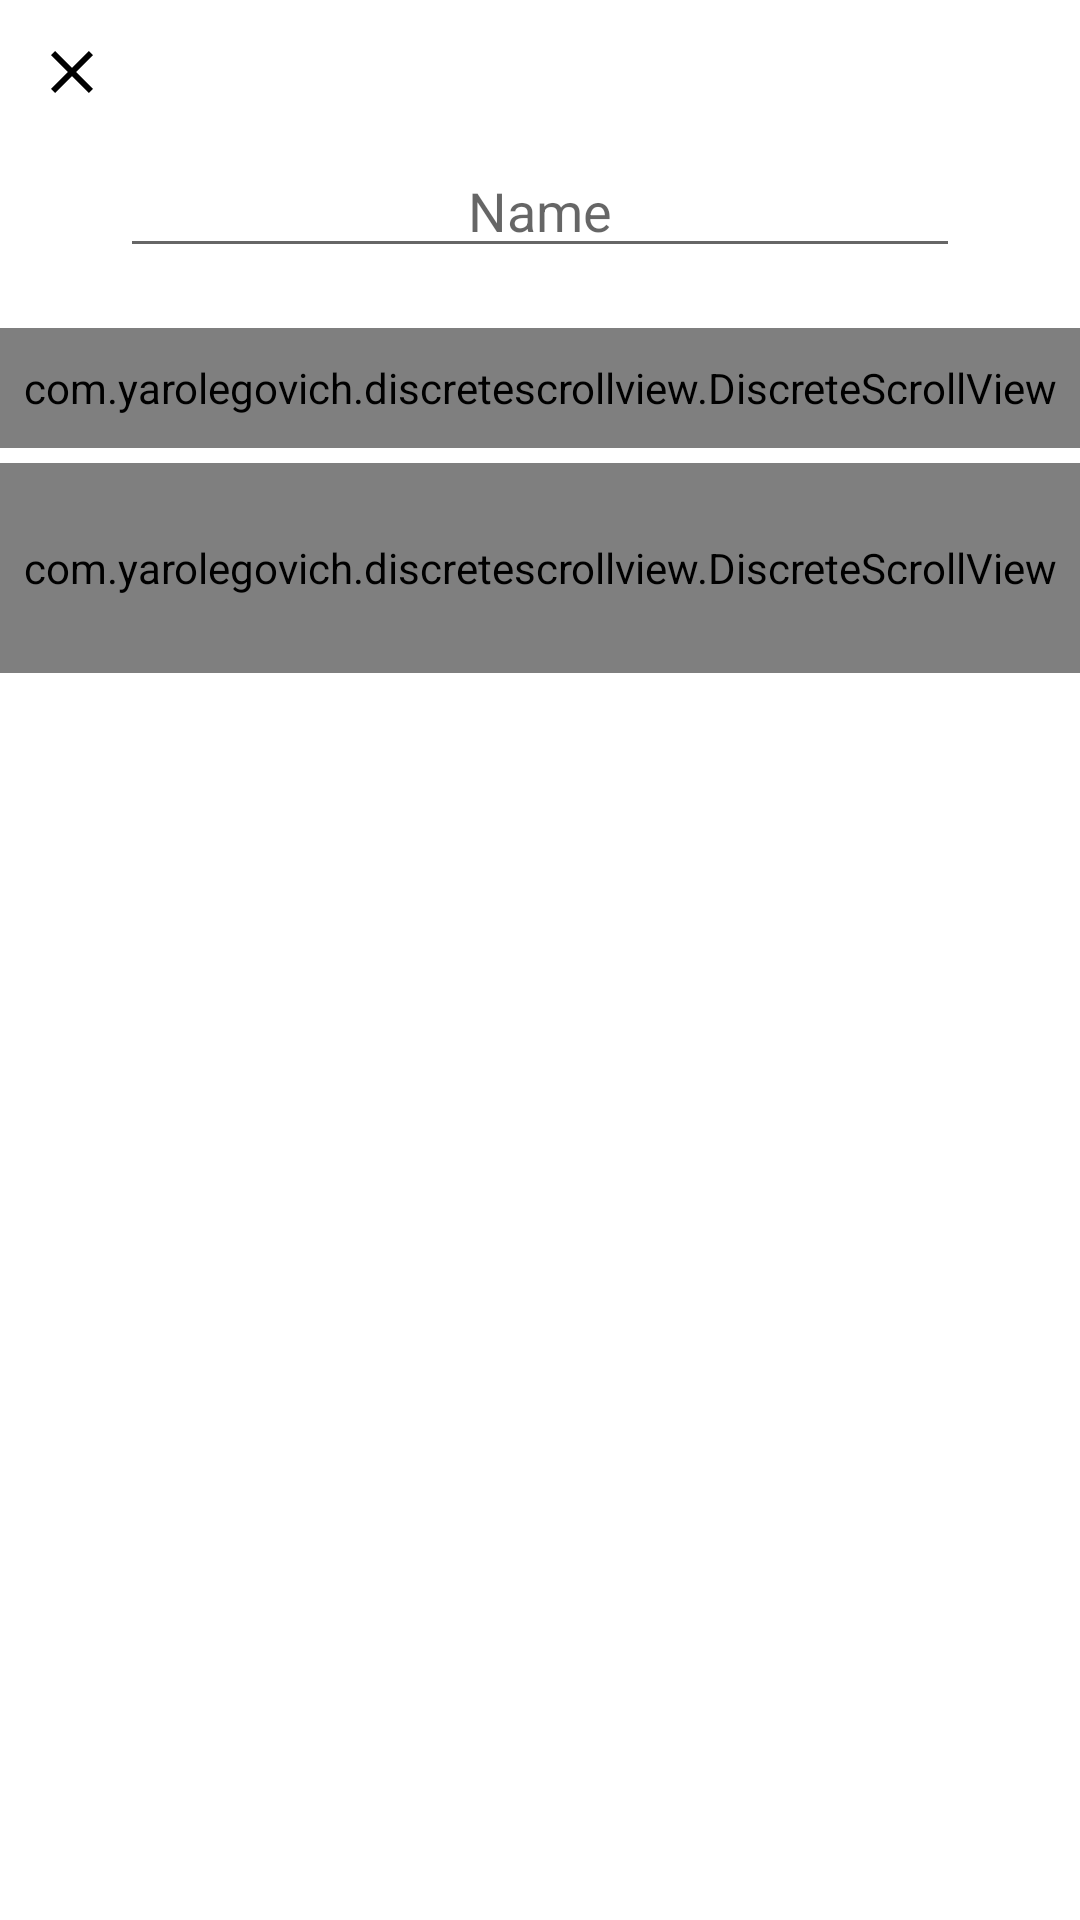

Icons on this 1080x1920 Android screen, each with its box as (x1, y1, x2, y2):
close: (51, 51, 93, 93)
